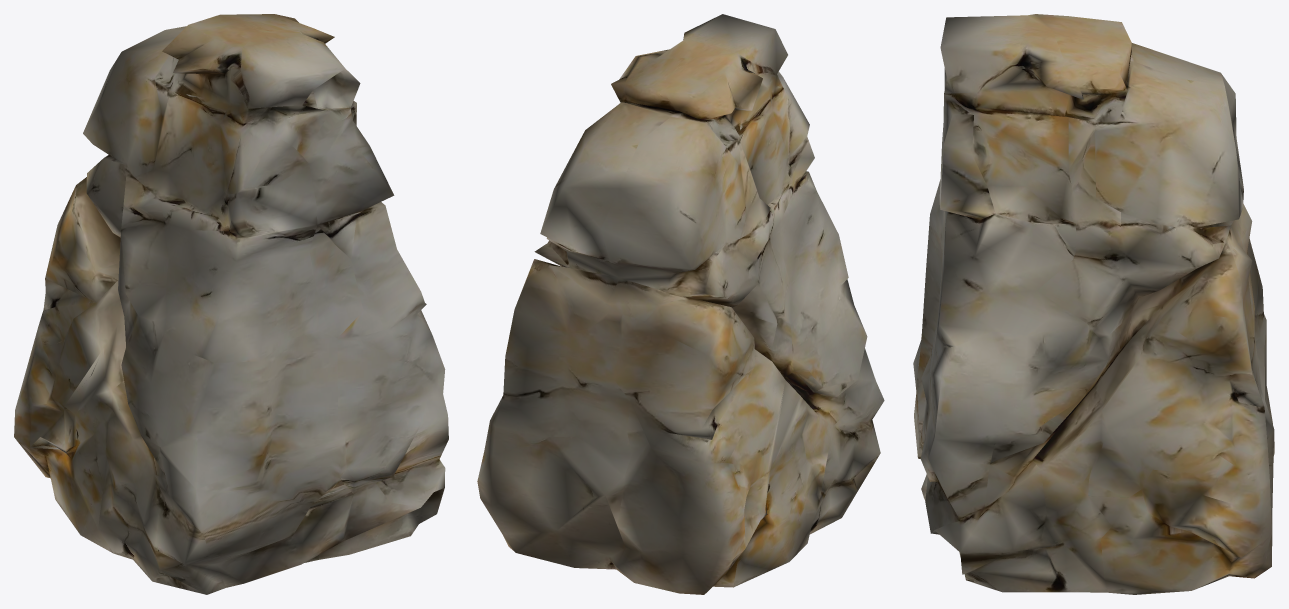
File: rock-2.glb
The picture shows the model from 3 angles, left to right: view 1: azimuth 30°, elevation 25°; view 2: azimuth 150°, elevation 25°; view 3: azimuth 270°, elevation 25°; orthographic projection. The views are drawn at different scales.
Visible parts, largest first — view 1: tripo_node_4cc91225-3910-4c81-85f3-32d88cba3a9c; view 2: tripo_node_4cc91225-3910-4c81-85f3-32d88cba3a9c; view 3: tripo_node_4cc91225-3910-4c81-85f3-32d88cba3a9c.
Boxes of the visible parts, x1,y1,x2,y2 form: tripo_node_4cc91225-3910-4c81-85f3-32d88cba3a9c: (14,14,448,594); tripo_node_4cc91225-3910-4c81-85f3-32d88cba3a9c: (477,14,884,594); tripo_node_4cc91225-3910-4c81-85f3-32d88cba3a9c: (913,14,1274,594).
Bounding box in the file's own units: 0.6015 × 0.9955 × 0.6545.
1 material, 1 textured.
